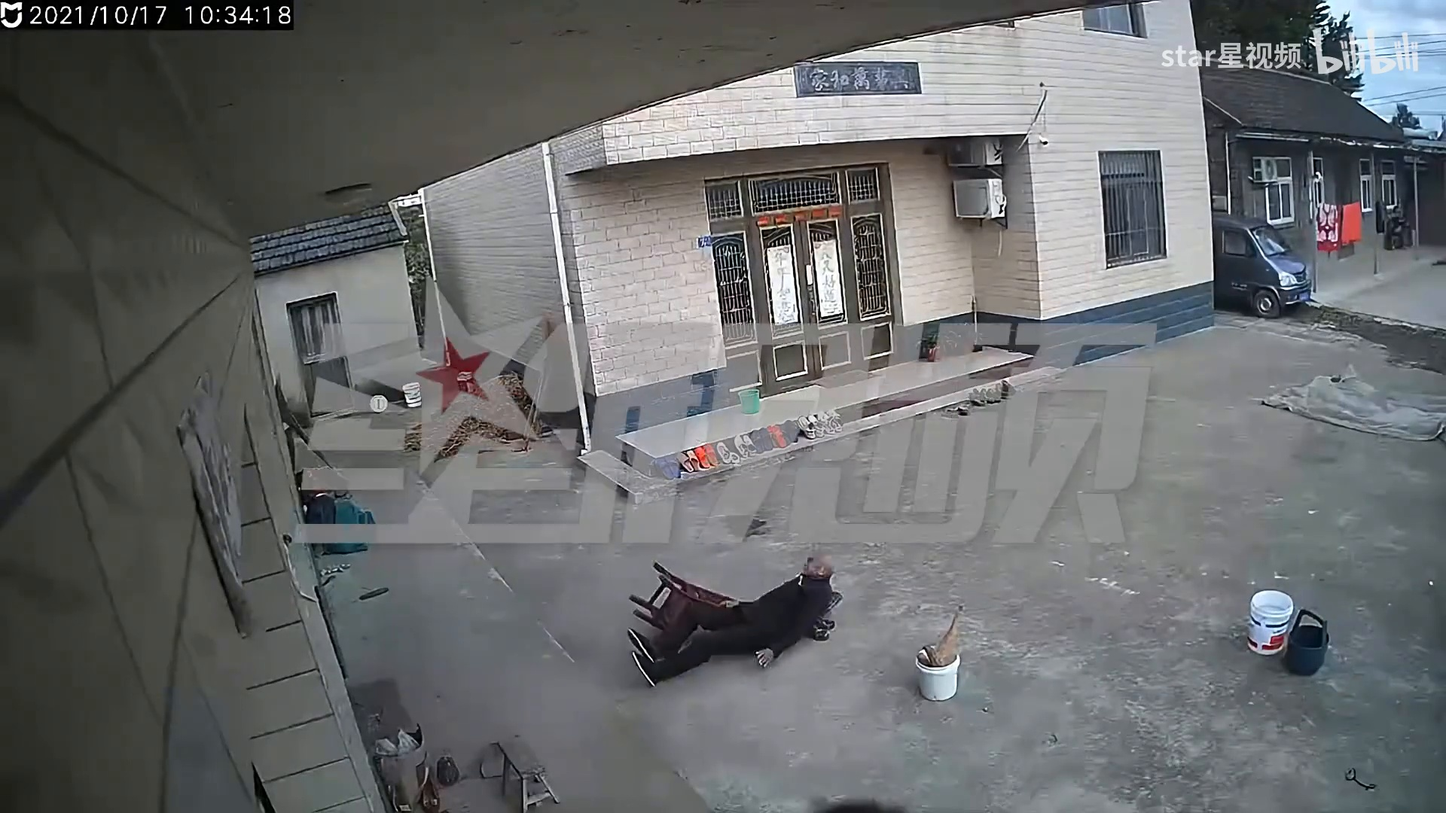fall_down: (627, 552, 837, 687)
